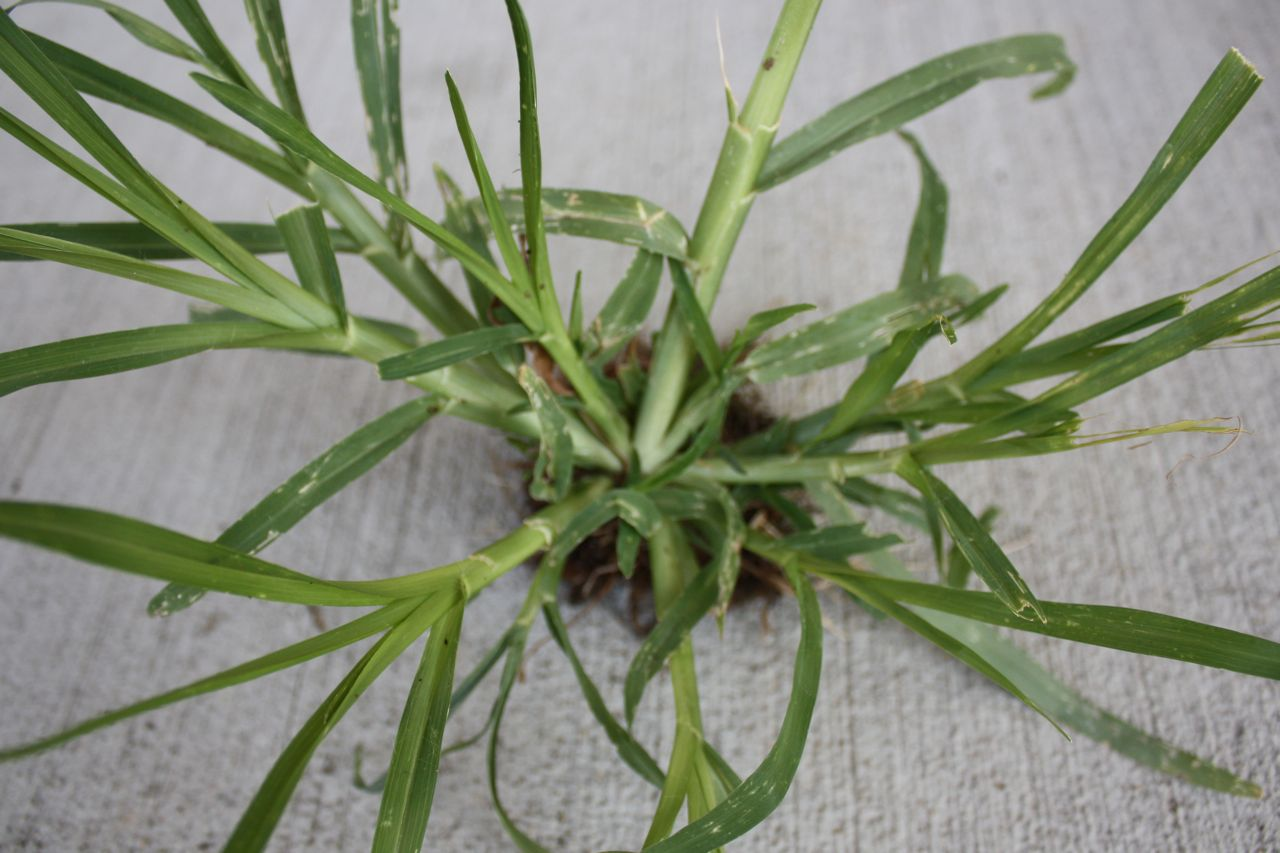crabgrass: (9, 16, 1280, 842)
